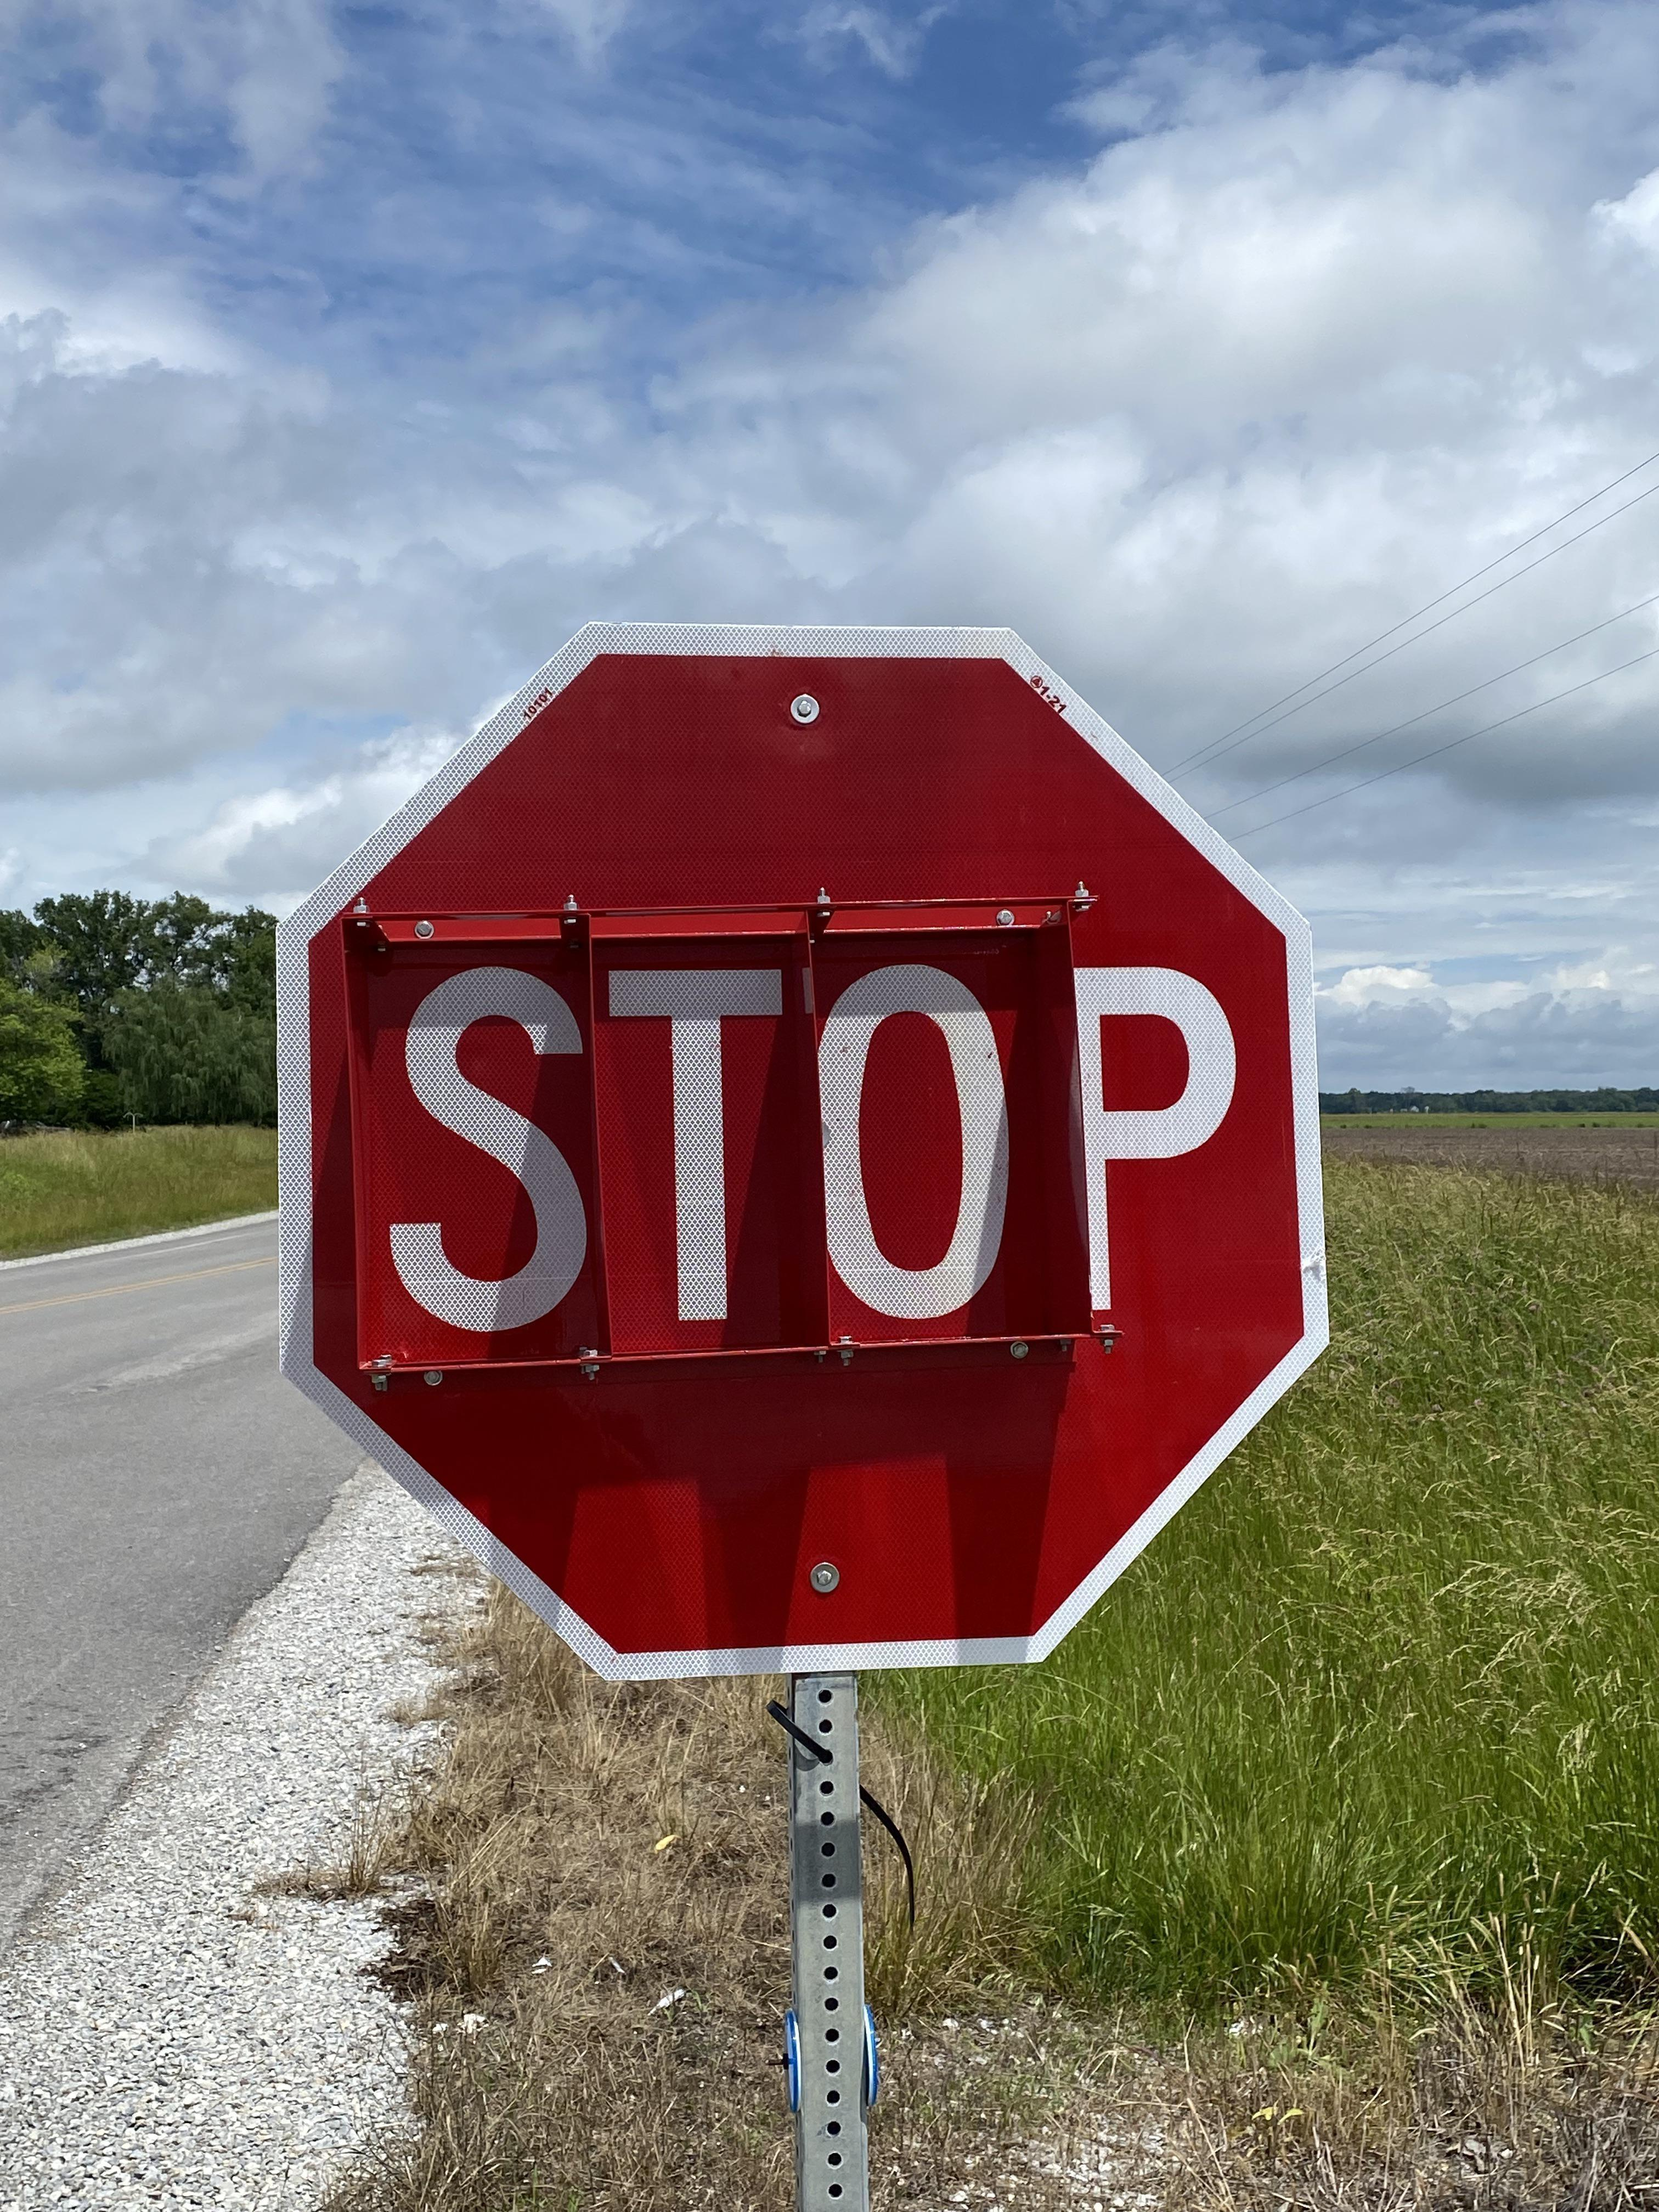Stop-Sign: (253, 597, 1351, 1703)
